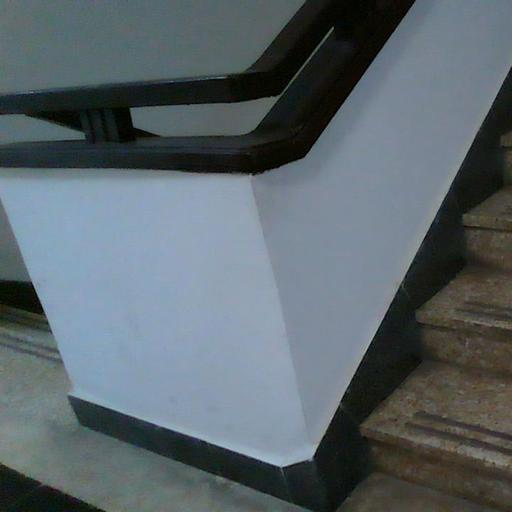stairs: (342, 185, 511, 511), (341, 473, 492, 511), (0, 304, 59, 361)
